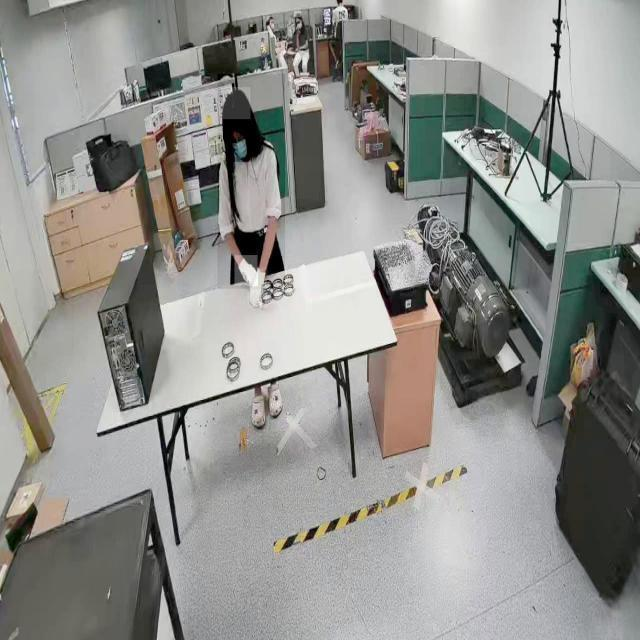gloves: (248, 268, 268, 308), (234, 255, 258, 286)
